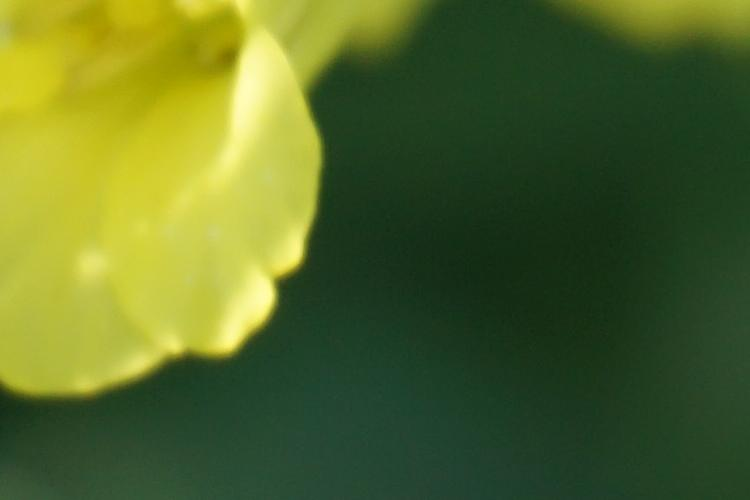yellow: (3, 2, 342, 396)
